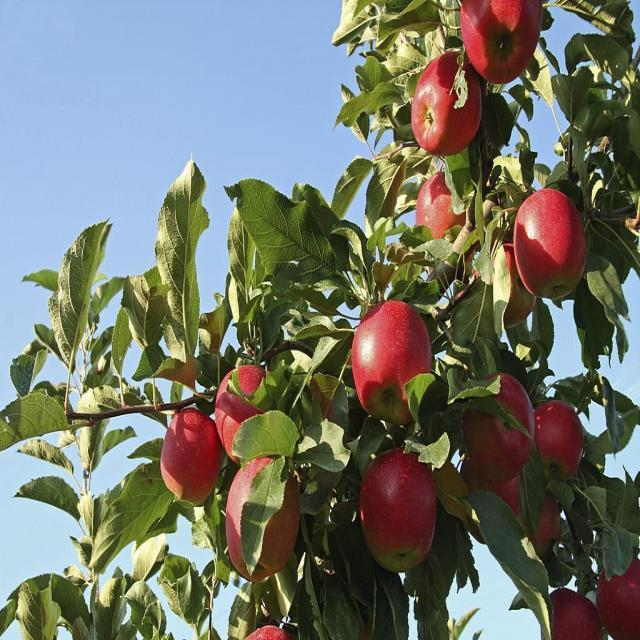Red Apple: (353, 304, 431, 415), (362, 453, 439, 565), (229, 463, 298, 580), (521, 199, 593, 299), (468, 373, 535, 478), (460, 1, 548, 74), (415, 54, 481, 146), (215, 365, 280, 456), (162, 415, 222, 501), (463, 458, 523, 533), (420, 178, 476, 249), (537, 404, 587, 474), (601, 562, 640, 640), (546, 588, 597, 640), (491, 256, 532, 316), (527, 497, 562, 554), (245, 620, 288, 640)
